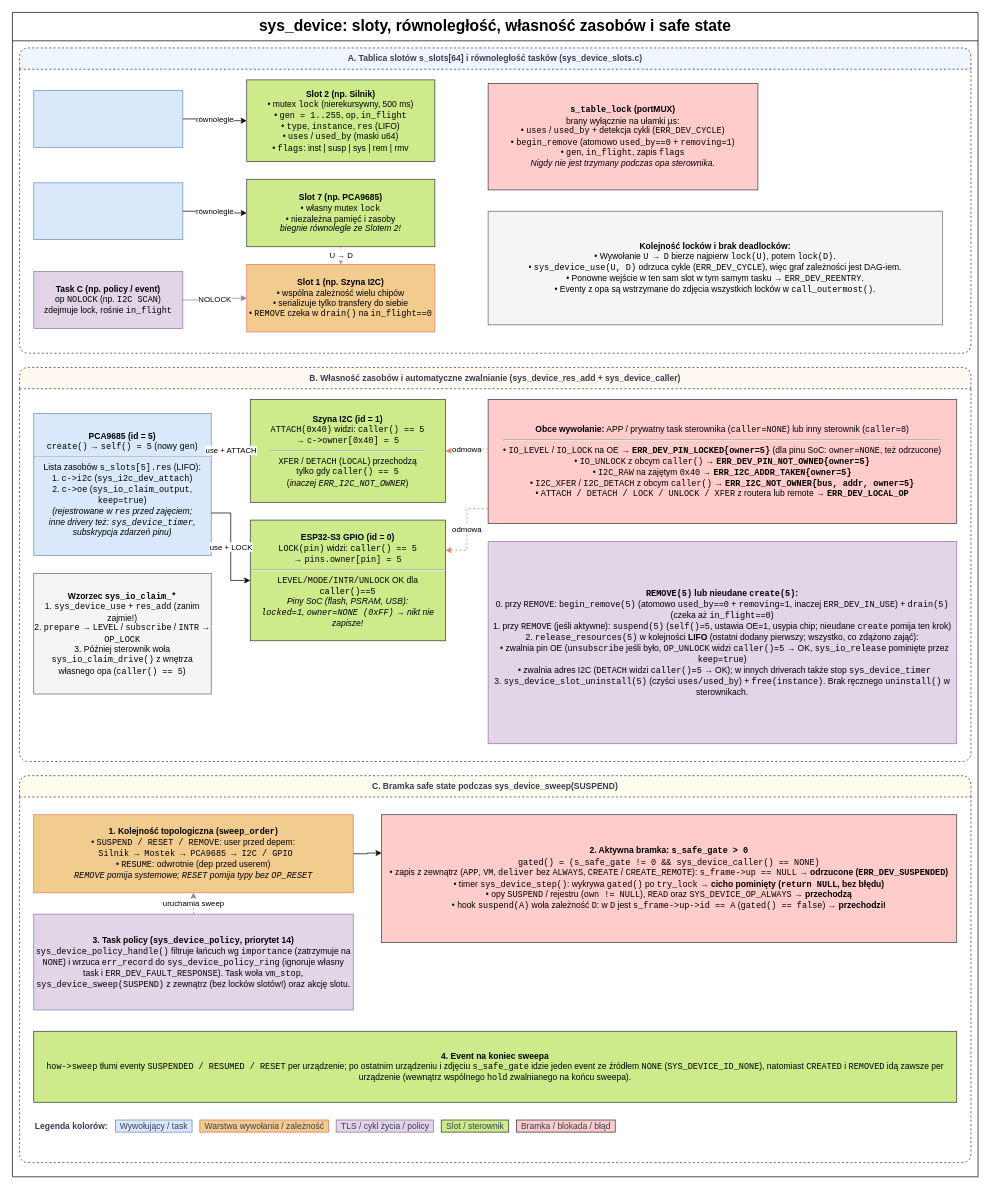
Some shapes in this 990 by 1189 pixel diagram are drawn without their labels. The centre of each missing label's shape, as x and y in pixels:
"Task A (np. router_work) własny TLS ( s_frame ) woła urządzenie id=2" belongs at point 108,118.
"Task B (np. timer / urgent) własny TLS ( s_frame ) woła urządzenie id=7" belongs at point 108,211.
